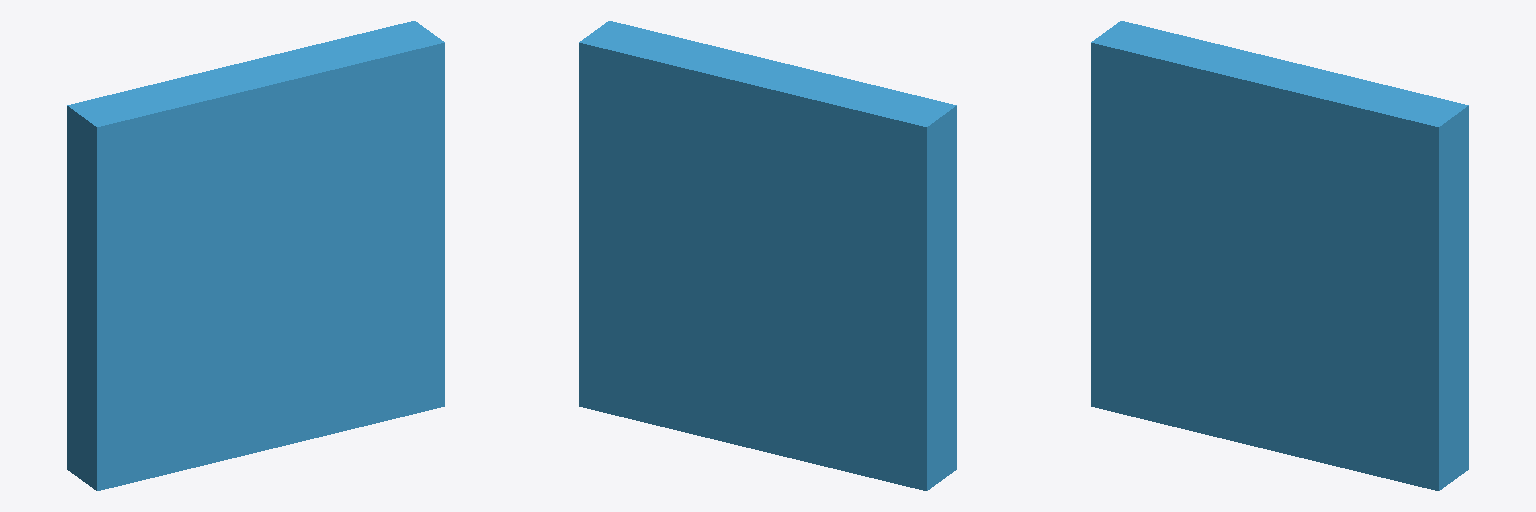
The robot description file, URDF, robot "ground_skeleton":
<?xml version="1.0"?>
<robot name="ground_skeleton">
    <link name="world" />
    <link name="ground_link">
        <inertial>
            <mass value="1.0" />
            <origin xyz="0 0 0" rpy="0 0 0" />
            <inertia ixx="1.0" ixy="0" ixz="0" iyy="1.0" iyz="0" izz="1.0" />
        </inertial>
        <visual>
            <origin xyz="0 -0.15 0" rpy="0 -0 0" />
            <geometry>
                <box size="2.0 0.3 2.0" />
            </geometry>
        </visual>
        <collision group="default">
            <origin xyz="0 -0.15 0" rpy="0 -0 0" />
            <geometry>
                <box size="2.0 0.3 2.0" />
            </geometry>
        </collision>
    </link>
    <joint name="ground_joint" type="fixed">
        <origin xyz="0 0 0" rpy="0 0 0" />
        <parent link="world" />
        <child link="ground_link" />
    </joint>
</robot>

--- Render facts (derived) ---
The picture shows the robot from 3 angles, left to right: view 1: azimuth 30°, elevation 25°; view 2: azimuth 150°, elevation 25°; view 3: azimuth 330°, elevation 25°; orthographic projection.
Robot: ground_skeleton — 2 links, 1 joints (1 fixed); root link world; default pose: all joints at 0.
Visible links, largest first — view 1: ground_link; view 2: ground_link; view 3: ground_link.
Link boxes in pixels (x1=…): ground_link: x1=67, y1=21, x2=444, y2=490; ground_link: x1=579, y1=21, x2=956, y2=490; ground_link: x1=1091, y1=21, x2=1468, y2=490.
Bounding box of the posed robot: 2 × 0.3 × 2 m (x, y, z).
Geometry: primitives only (box / cylinder / sphere), no mesh files.